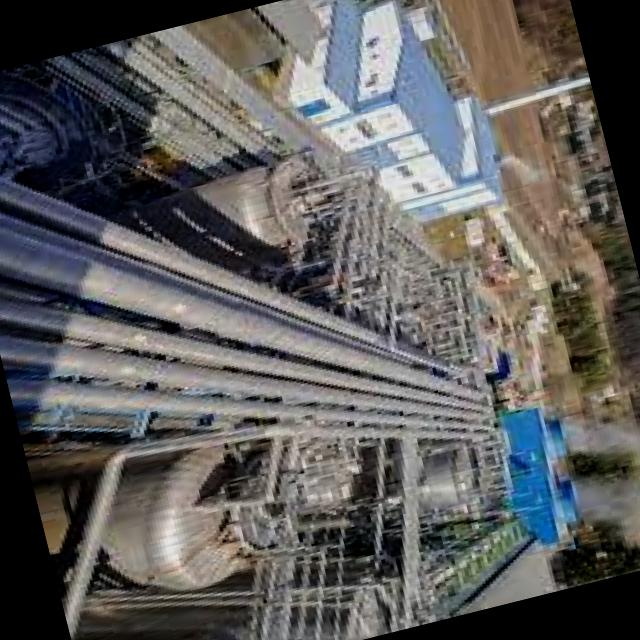gas: (0, 182, 443, 394), (0, 283, 479, 429), (0, 176, 374, 344), (8, 380, 416, 430), (410, 392, 483, 435)
